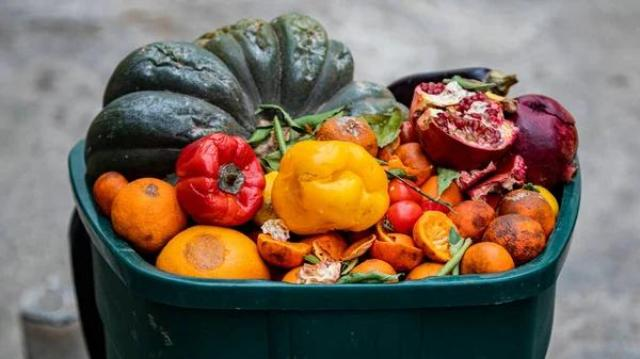Garbage: (85, 14, 575, 284)
